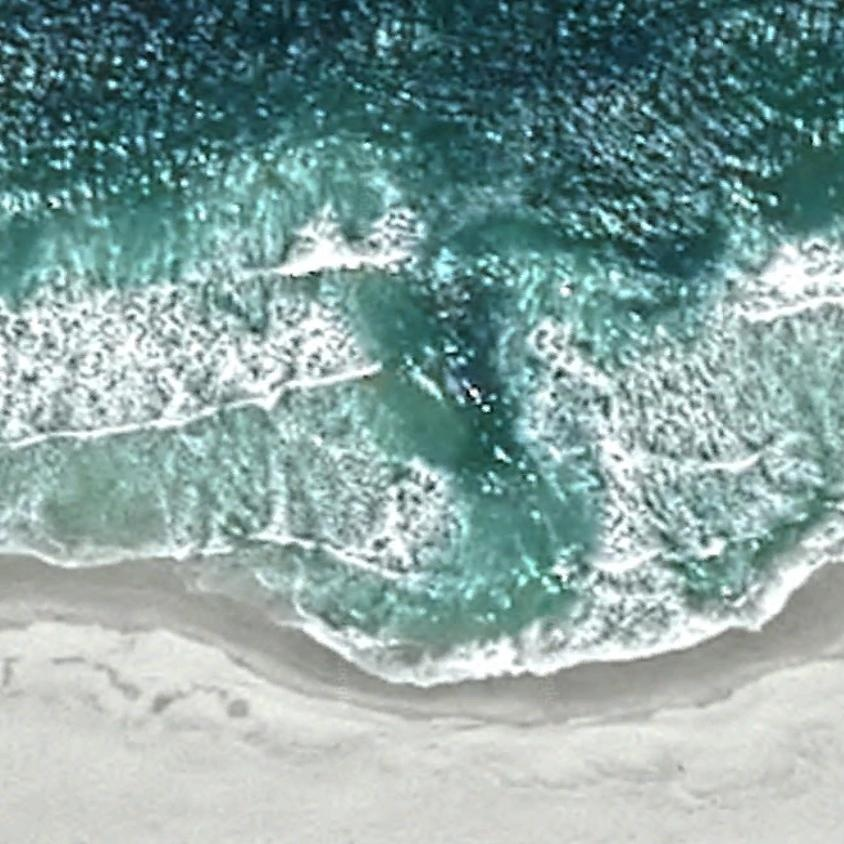rip_current: (256, 148, 627, 657)
